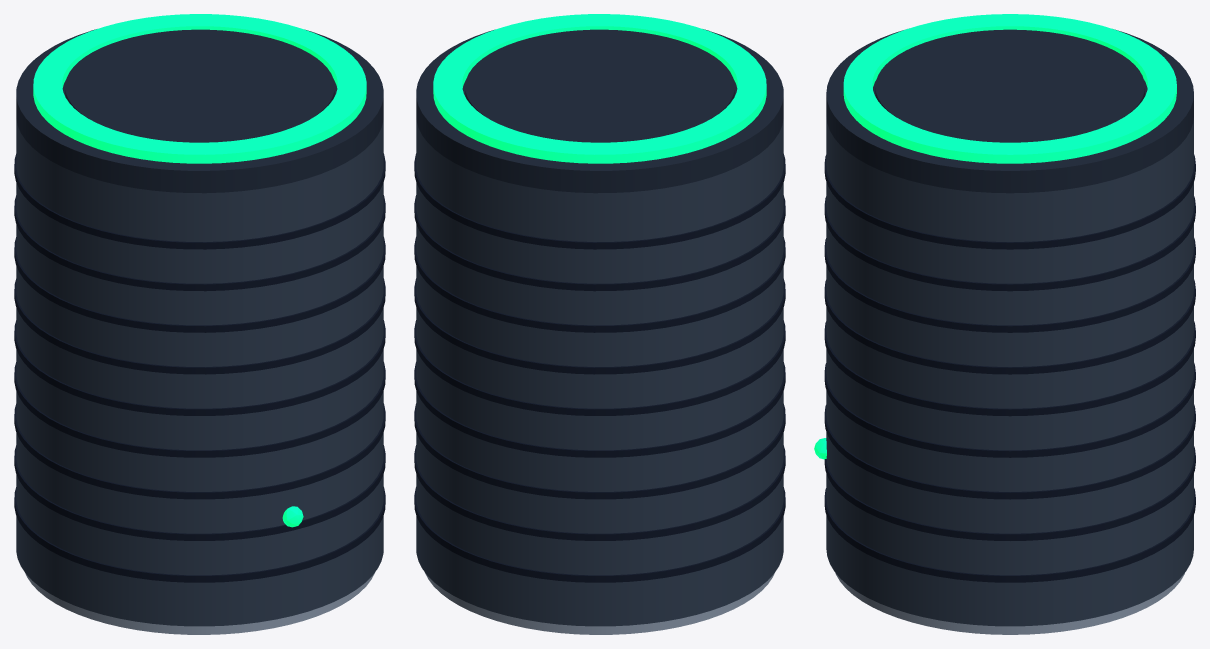
The model's file is iot.glb.
3 renders of one model, left to right at view 1: azimuth 30°, elevation 25°; view 2: azimuth 150°, elevation 25°; view 3: azimuth 270°, elevation 25°, orthographic.
Parts seen in each view (by area): view 1: body, status; view 2: body, status; view 3: body, status.
Boxes of the visible parts, x1,y1,x2,y2 form: body: [14, 29, 385, 634]; status: [33, 14, 366, 527]; body: [414, 29, 785, 634]; status: [433, 14, 766, 163]; body: [824, 29, 1195, 634]; status: [814, 14, 1176, 459].
Bounding box in the file's own units: 0.7079 × 1 × 0.7278.
